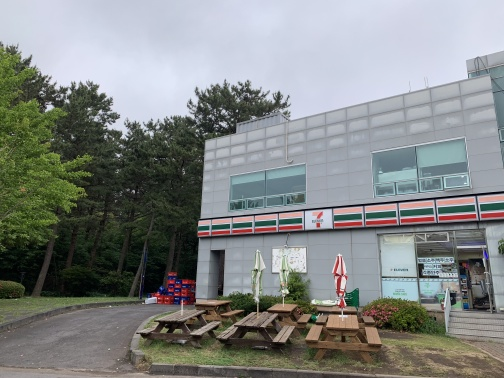Global House: (195, 54, 504, 333)
